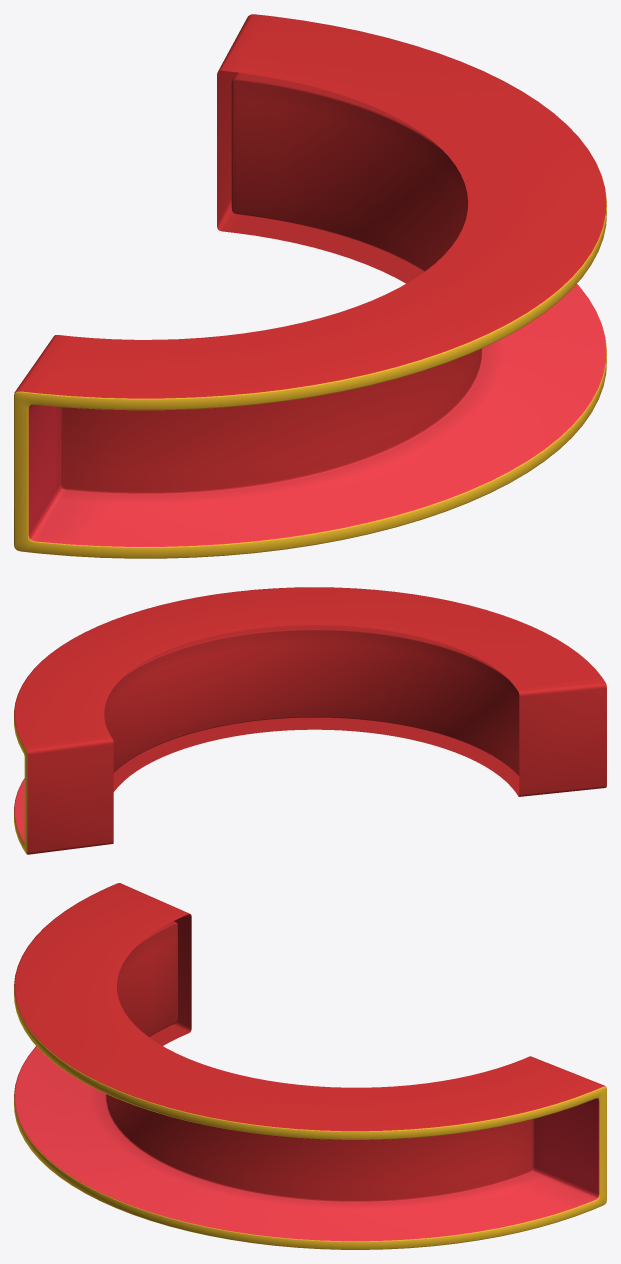
File: guizi_02.FBX
3 renders of one model, top to bottom at view 1: azimuth 30°, elevation 25°; view 2: azimuth 150°, elevation 25°; view 3: azimuth 270°, elevation 25°, orthographic. The views are drawn at different scales.
Visible parts, largest first — view 1: guizi_02; view 2: guizi_02; view 3: guizi_02.
Boxes of the visible parts, box(x1,y1,x2,y2) form: guizi_02: box(14, 14, 606, 558); guizi_02: box(14, 587, 606, 854); guizi_02: box(14, 883, 606, 1249).
Bounding box in the file's own units: 760 × 169 × 763.
Materials: 1 (1 with a texture image).
